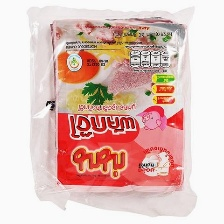snack: (19, 0, 205, 224)
